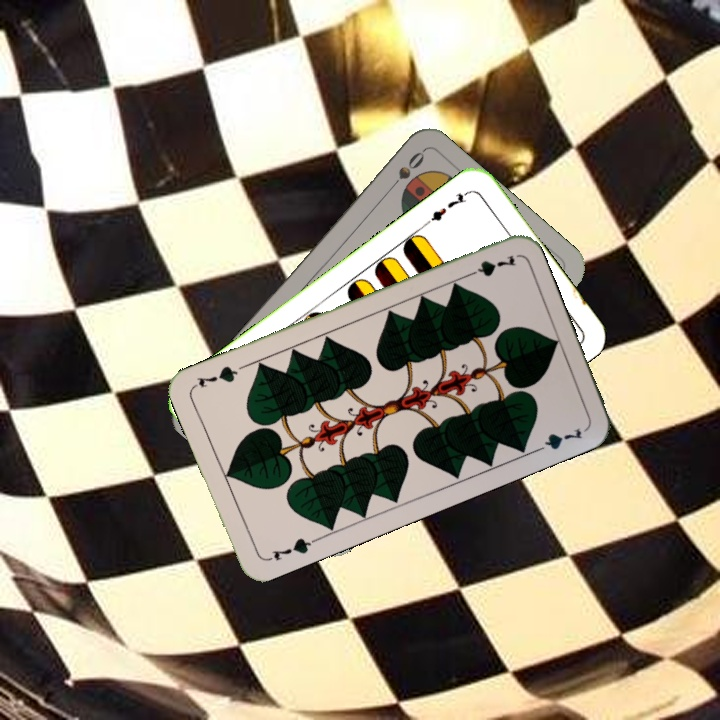E7: (422, 186, 473, 228)
G7: (460, 251, 519, 281), (262, 534, 319, 564)
SO: (382, 147, 428, 196)
